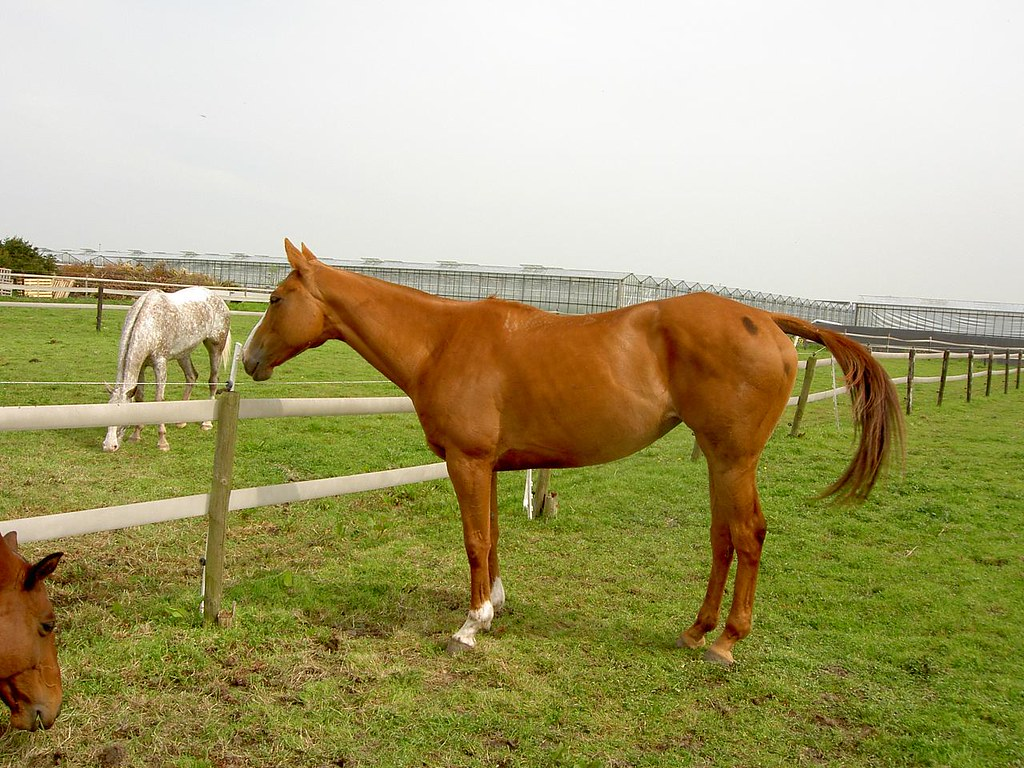horse: (242, 239, 901, 674), (96, 287, 227, 454)
